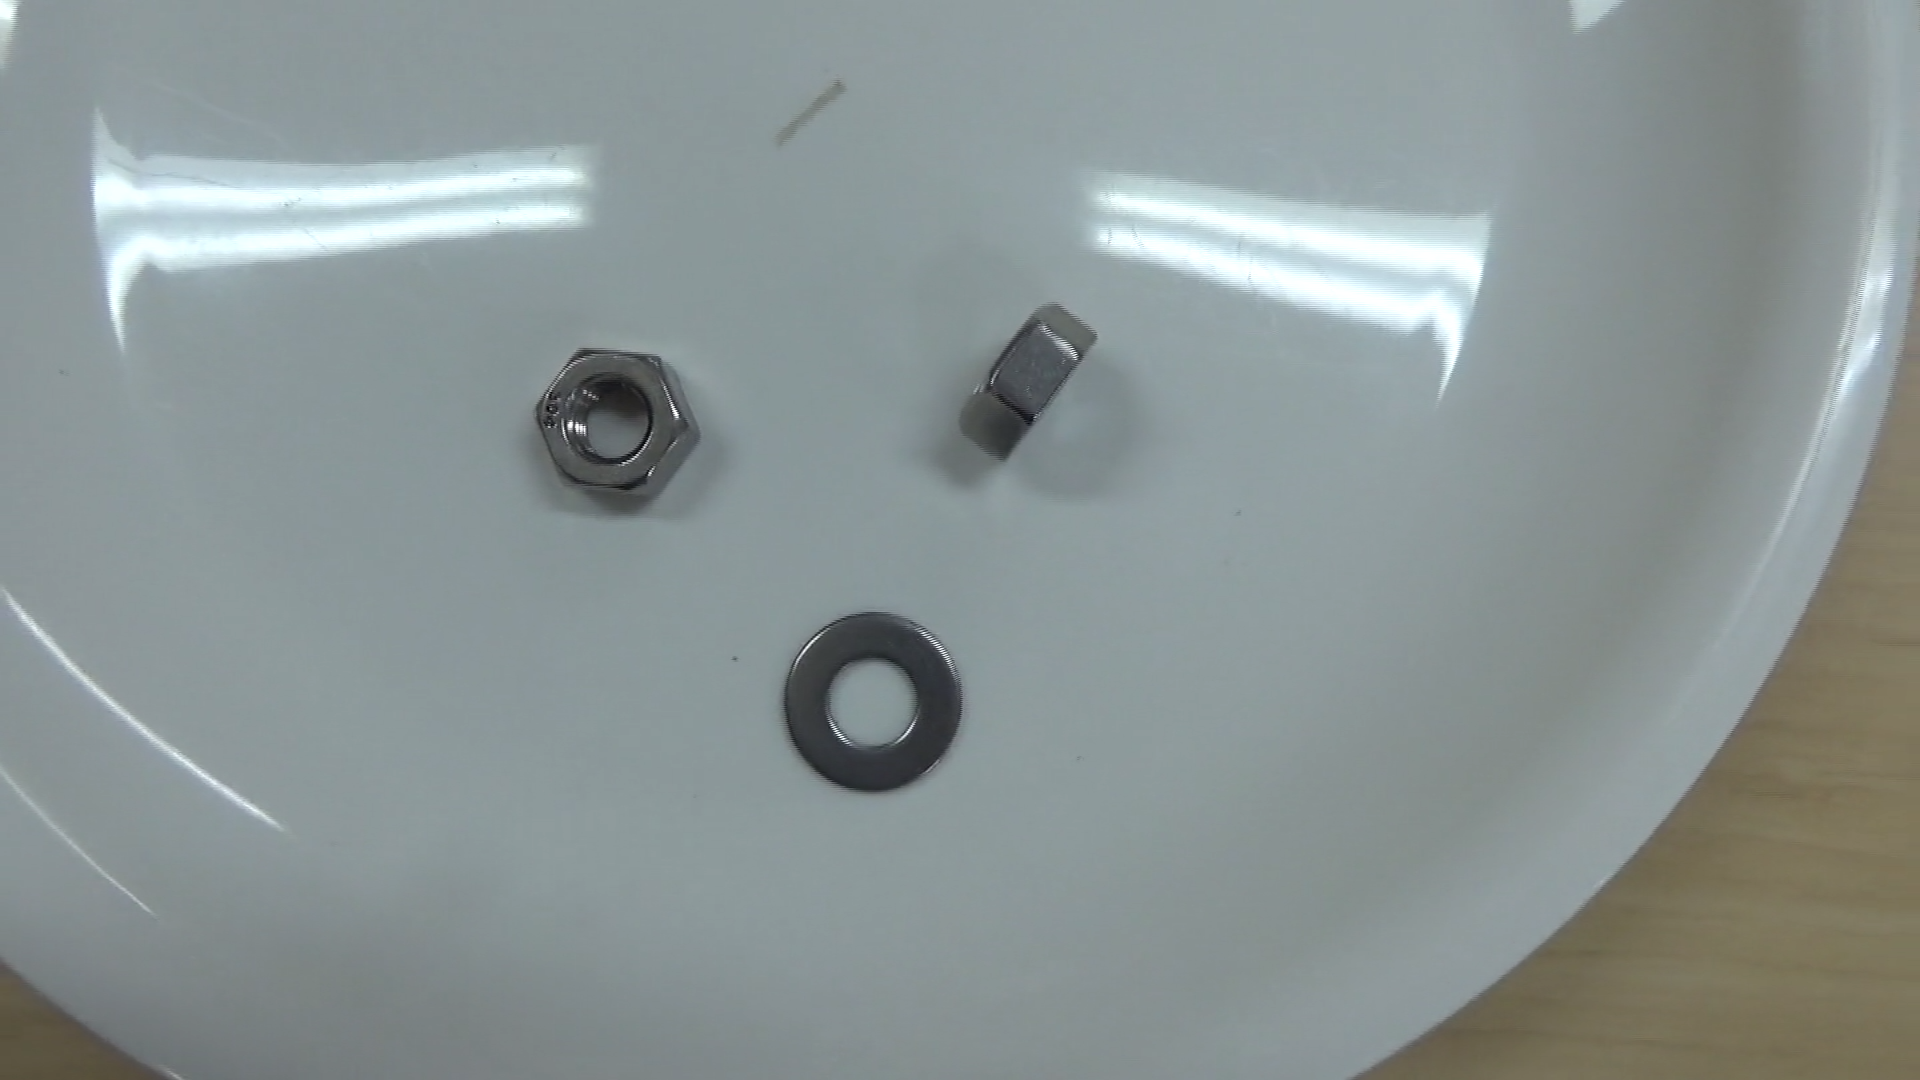nut: (524, 331, 709, 516), (939, 287, 1106, 475)
washer: (770, 597, 975, 799)
